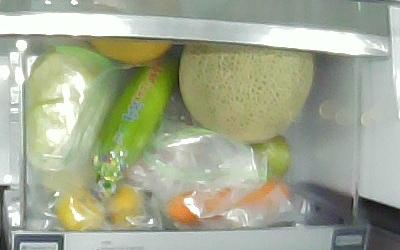cabbage_vinyl: (24, 52, 112, 193)
carrot_vinyl: (166, 178, 293, 224)
melon: (178, 42, 314, 142)
pear: (88, 36, 173, 63)
tangerine_vinyl: (56, 187, 105, 230), (106, 182, 145, 225)
tomato_vinyl: (253, 135, 291, 180)
zucchini: (91, 56, 177, 196)
